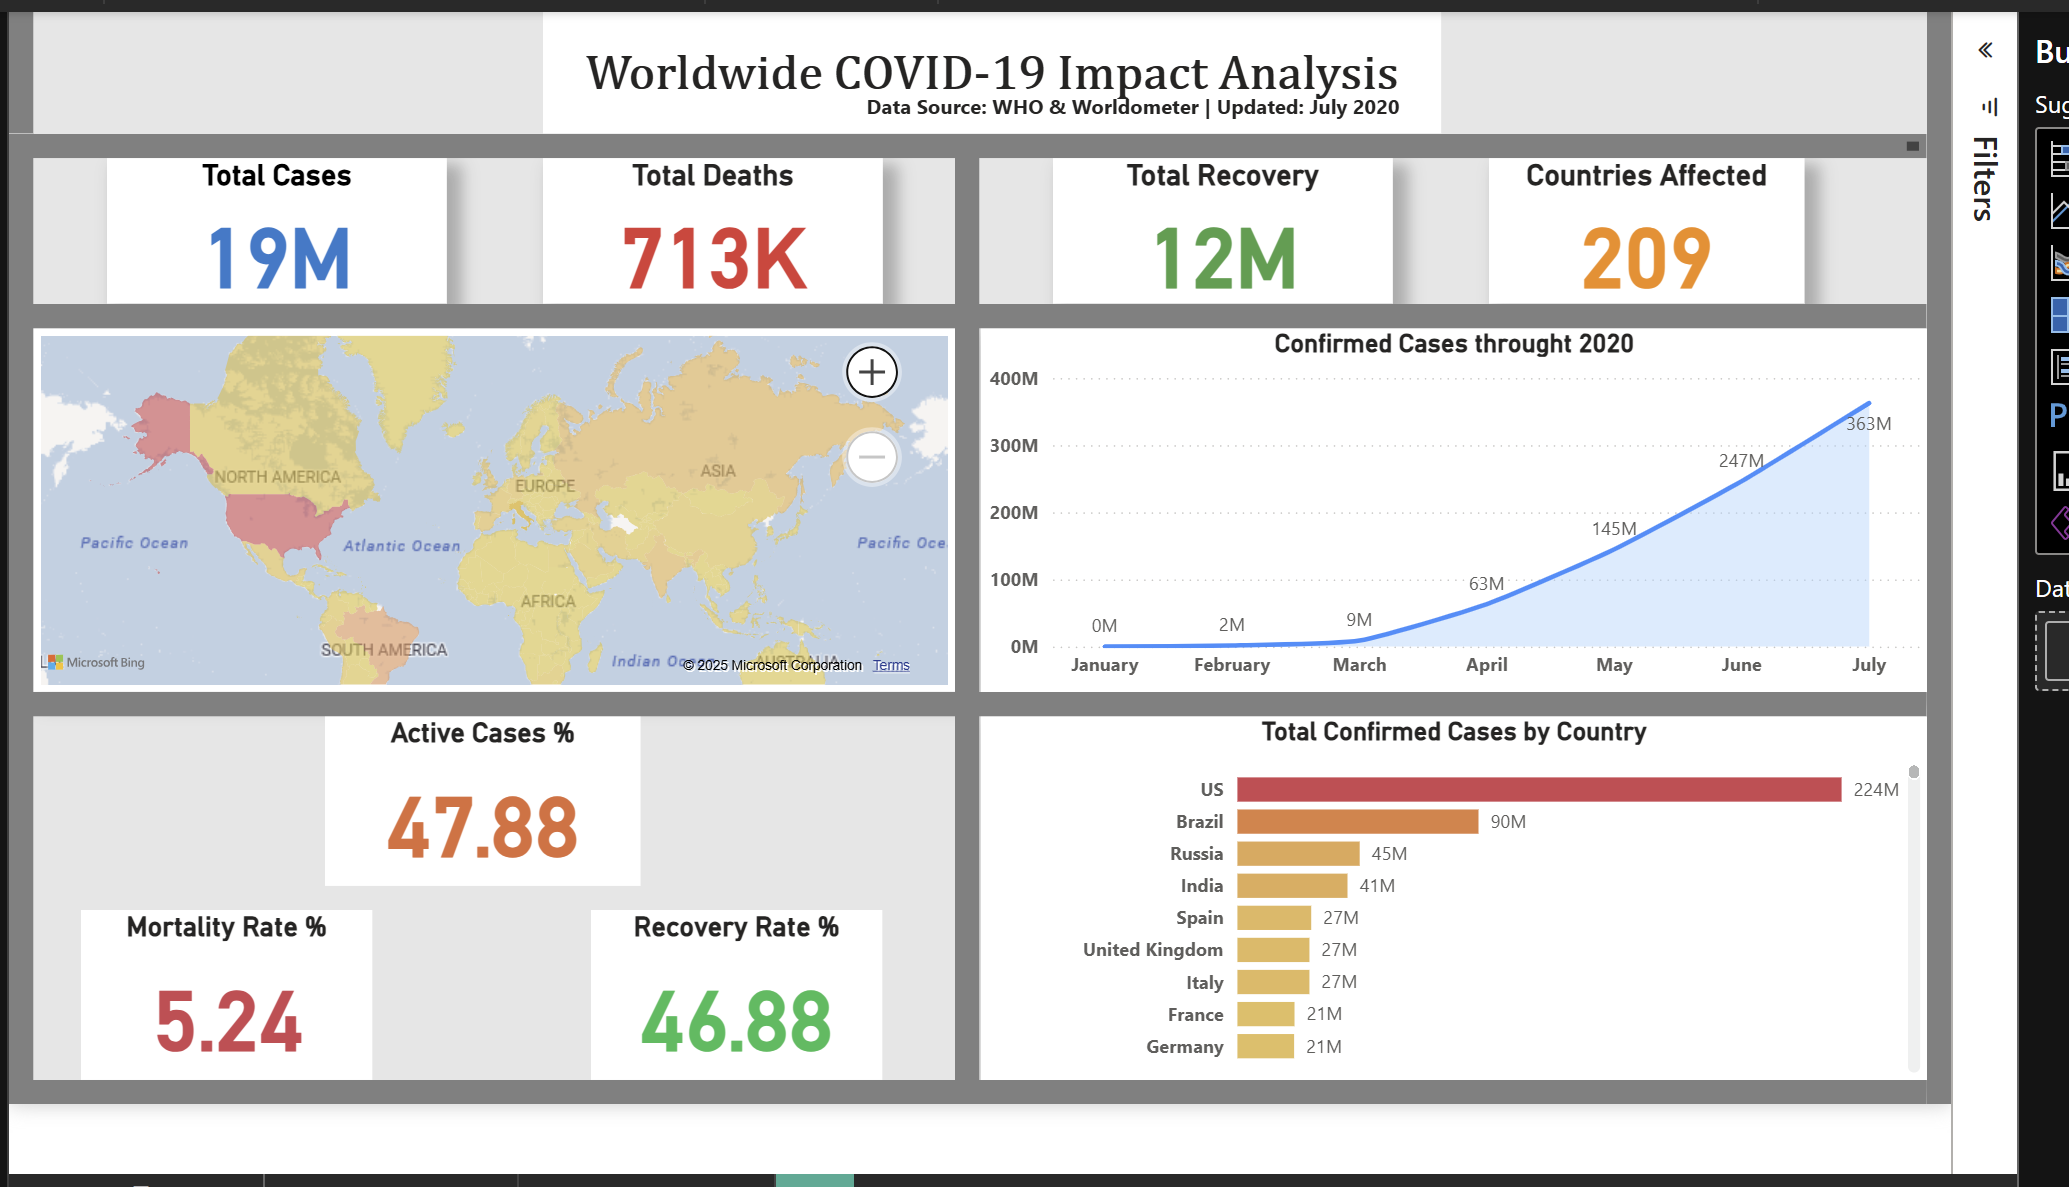

What the dashboard file says about the page in this screenshot:
{"tool":"powerbi","page":{"name":" Covid-19 Global","canvas":[1280,720],"ordinal":0},"visuals":[{"type":"card","title":"Total Cases","fields":{"Values":["Sum(worldometer_data.TotalCases)"]},"box":[64,96,224,96],"z":0},{"type":"card","title":"Total Deaths","fields":{"Values":["Sum(worldometer_data.TotalDeaths)"]},"box":[352,96,224,96],"z":1000},{"type":"card","title":"Total Recovery","fields":{"Values":["Sum(worldometer_data.TotalRecovered)"]},"box":[688,96,224,96],"z":2000},{"type":"card","title":"Countries Affected","fields":{"Values":["Count(worldometer_data.Country/Region)"]},"box":[976,96,208,96],"z":3000},{"type":"filledMap","fields":{"Category":["covid_19_clean_complete.Country/Region"]},"box":[16,208,608,240],"z":4000},{"type":"areaChart","title":"Confirmed Cases throught 2020","fields":{"Category":["full_grouped.Date.Variation.Date Hierarchy.Month"],"Y":["Sum(full_grouped.Confirmed Cases)"]},"box":[640,208,624,240],"z":5000},{"type":"clusteredBarChart","title":"Total Confirmed Cases by Country","fields":{"Y":["Sum(full_grouped.Confirmed Cases)"],"Category":["full_grouped.Country/Region"]},"box":[640,464,624,240],"z":6000},{"type":"textbox","box":[352,0,592,80],"z":7000},{"type":"card","title":"Active Cases %","fields":{"Values":["country_wise_latest.Mortality Rate %"]},"box":[208,464,208,112],"z":8000},{"type":"card","title":"Mortality Rate %","fields":{"Values":["country_wise_latest.Mortality Rate %"]},"box":[48,592,192,112],"z":9000},{"type":"card","title":"Recovery Rate %","fields":{"Values":["country_wise_latest.Recovery Rate %"]},"box":[384,592,192,112],"z":10000},{"type":"textbox","box":[16,448,1248,16],"z":11000},{"type":"textbox","box":[16,192,1248,16],"z":12000},{"type":"textbox","box":[16,80,1248,16],"z":13000},{"type":"textbox","box":[560,48,368,48],"z":14000},{"type":"textbox","box":[624,96,16,624],"z":15000},{"type":"textbox","box":[1264,80,16,640],"z":16000},{"type":"textbox","box":[0,80,16,640],"z":17000},{"type":"textbox","box":[0,704,1264,16],"z":18000},{"type":"textbox","box":[0,0,16,80],"z":19000},{"type":"textbox","box":[1264,0,16,96],"z":20000}]}

Visuals, with their boxes on the page's 1280x720 design canvas (x1, y1, x2, y2). These are canvas units, not pixel positions in the 2069x1187 screenshot, which may show the page scaled, cropped or inside an application window:
"Total Cases" card: bbox=[64, 96, 288, 192]
"Total Deaths" card: bbox=[352, 96, 576, 192]
"Total Recovery" card: bbox=[688, 96, 912, 192]
"Countries Affected" card: bbox=[976, 96, 1184, 192]
filledMap - covid_19_clean_complete.Country/Region: bbox=[16, 208, 624, 448]
"Confirmed Cases throught 2020" areaChart: bbox=[640, 208, 1264, 448]
"Total Confirmed Cases by Country" clusteredBarChart: bbox=[640, 464, 1264, 704]
textbox: bbox=[352, 0, 944, 80]
"Active Cases %" card: bbox=[208, 464, 416, 576]
"Mortality Rate %" card: bbox=[48, 592, 240, 704]
"Recovery Rate %" card: bbox=[384, 592, 576, 704]
textbox: bbox=[16, 448, 1264, 464]
textbox: bbox=[16, 192, 1264, 208]
textbox: bbox=[16, 80, 1264, 96]
textbox: bbox=[560, 48, 928, 96]
textbox: bbox=[624, 96, 640, 720]
textbox: bbox=[1264, 80, 1280, 720]
textbox: bbox=[0, 80, 16, 720]
textbox: bbox=[0, 704, 1264, 720]
textbox: bbox=[0, 0, 16, 80]
textbox: bbox=[1264, 0, 1280, 96]
